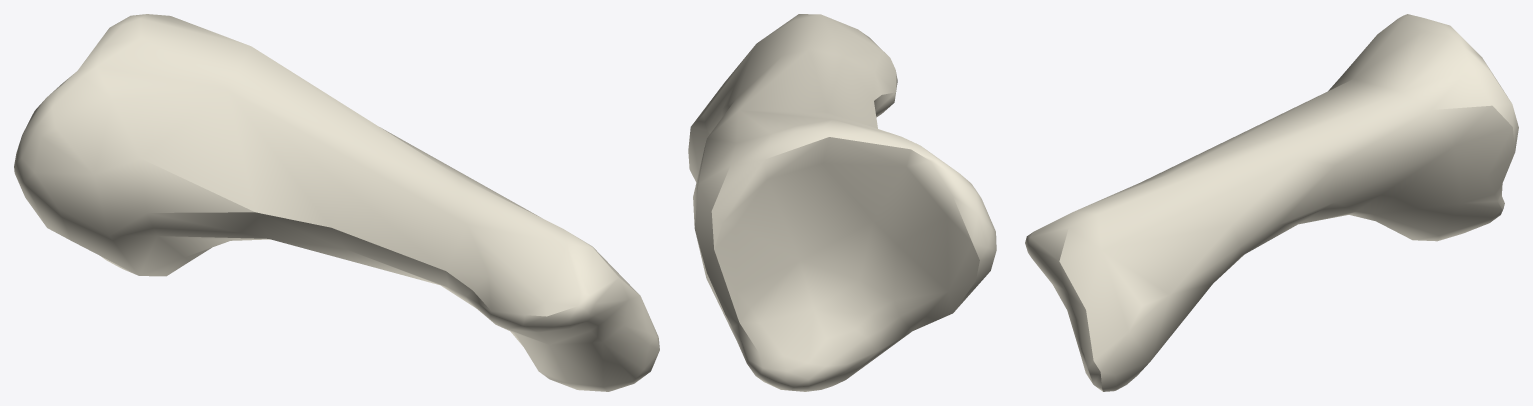
The model's file is fma32639_fj3312.glb.
3 renders of one model, left to right at view 1: azimuth 30°, elevation 25°; view 2: azimuth 150°, elevation 25°; view 3: azimuth 270°, elevation 25°, orthographic. The views are drawn at different scales.
Parts seen in each view (by area): view 1: FMA32639_FJ3312; view 2: FMA32639_FJ3312; view 3: FMA32639_FJ3312.
Boxes of the visible parts, x1,y1,x2,y2 form: FMA32639_FJ3312: [14, 14, 659, 391]; FMA32639_FJ3312: [688, 14, 996, 391]; FMA32639_FJ3312: [1025, 14, 1518, 391].
Size of the model in its own units: 0.0216 by 0.0132 by 0.024.
